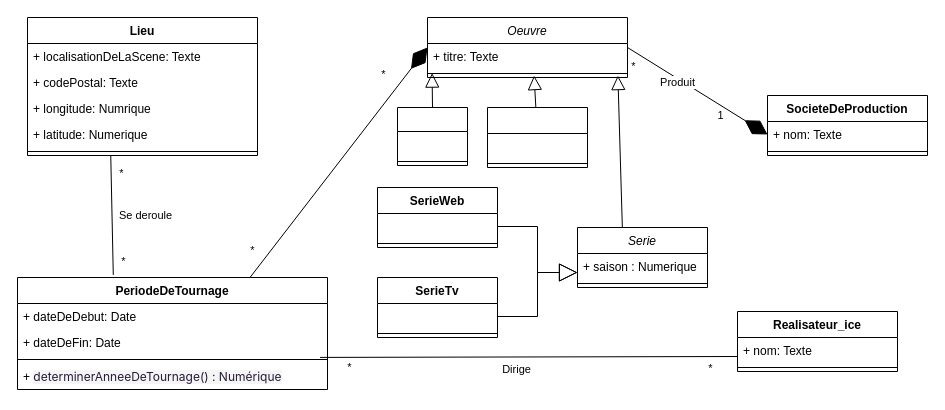
Image size: 945x410. Some labels were removed from this diagram. Each missing label, with the centre of its shape:
LongMetrage: the point at 537,137
Telefilm: the point at 432,136
